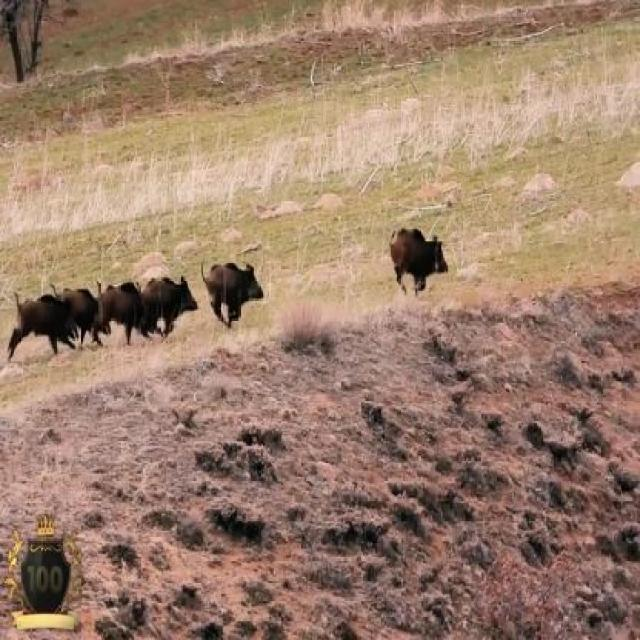pig: (394, 188, 461, 292), (203, 238, 265, 332), (23, 274, 84, 359), (106, 268, 157, 352), (162, 257, 200, 335), (77, 274, 104, 321)
